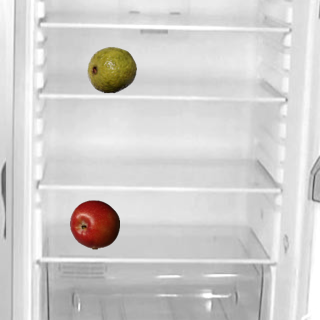Apple Braeburn: (69, 199, 119, 249)
Guava: (86, 44, 136, 94)
